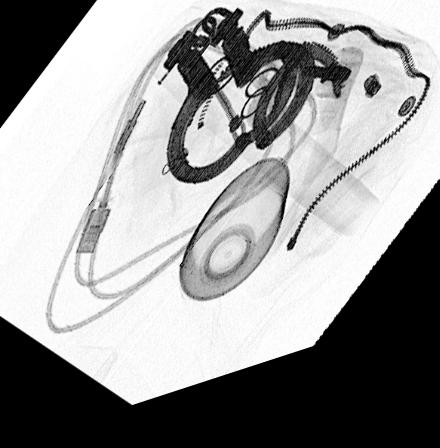HandCuffs: (159, 18, 343, 198)
